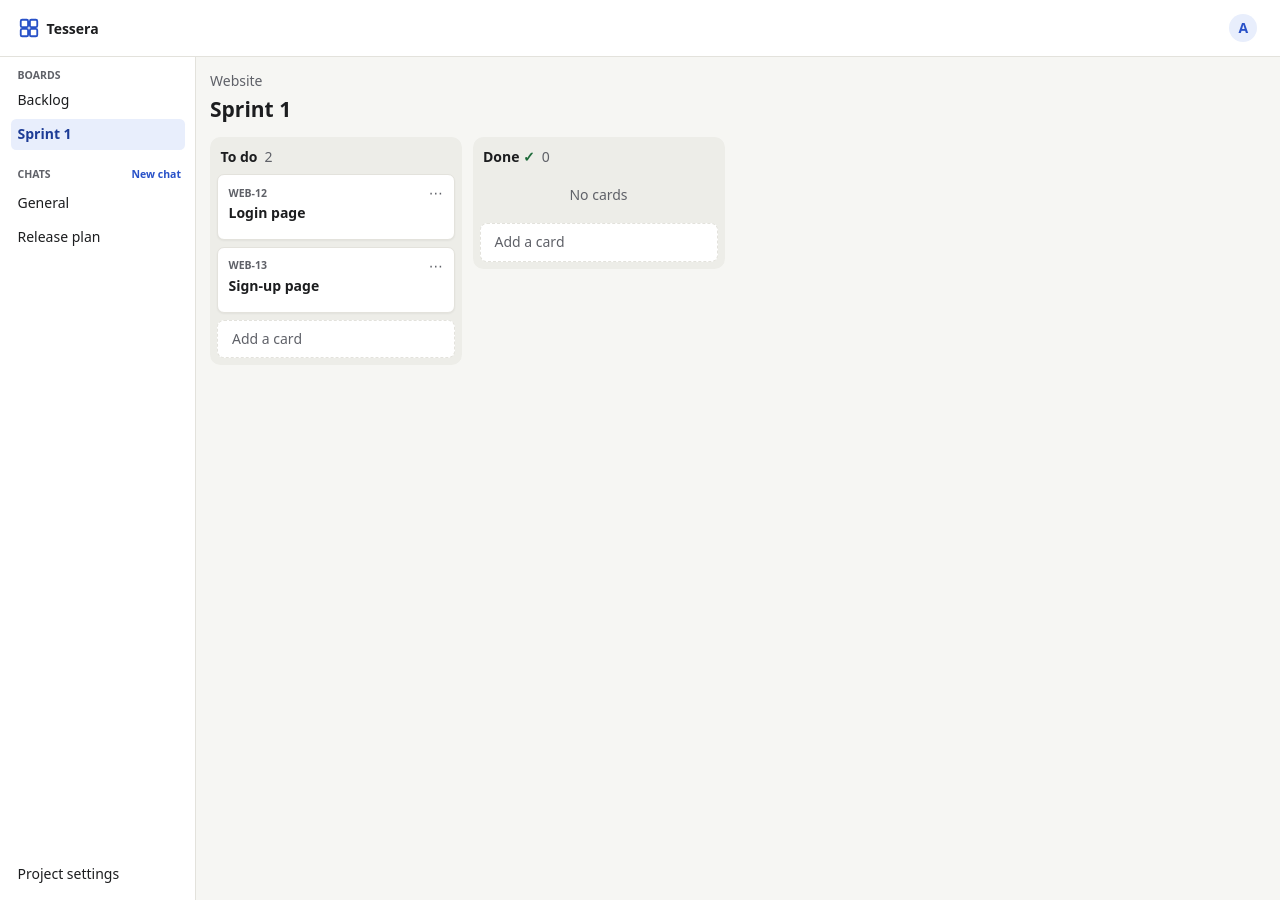
it: Chats and cards › unlinks a chat from its card, keeping both
Click the button "WEB-12 Login page". click: (267,204)
box: [228,186,306,222]
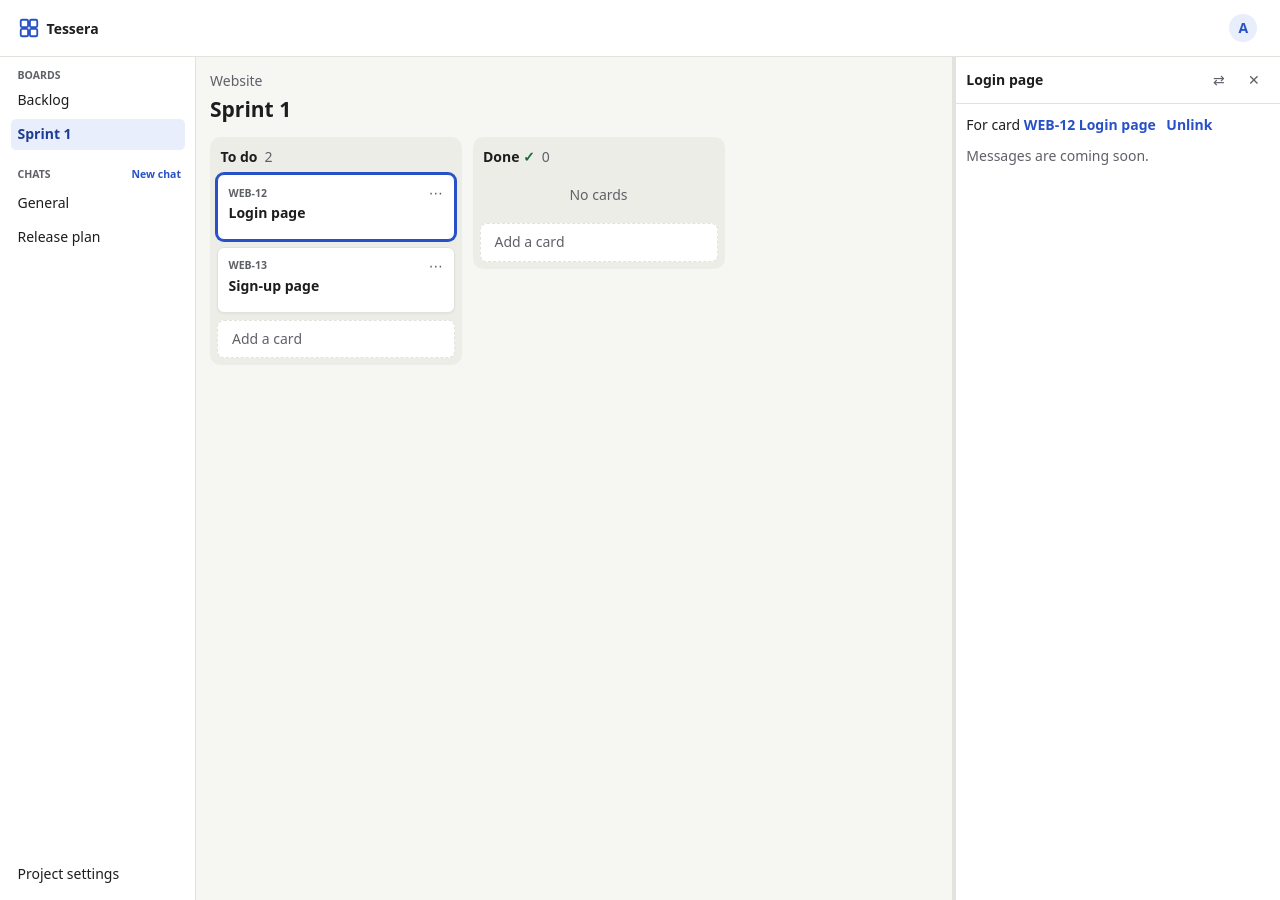
Click the button with aria-label "Unlink from WEB-12". click: (1189,124)
box: [1166,114,1212,135]
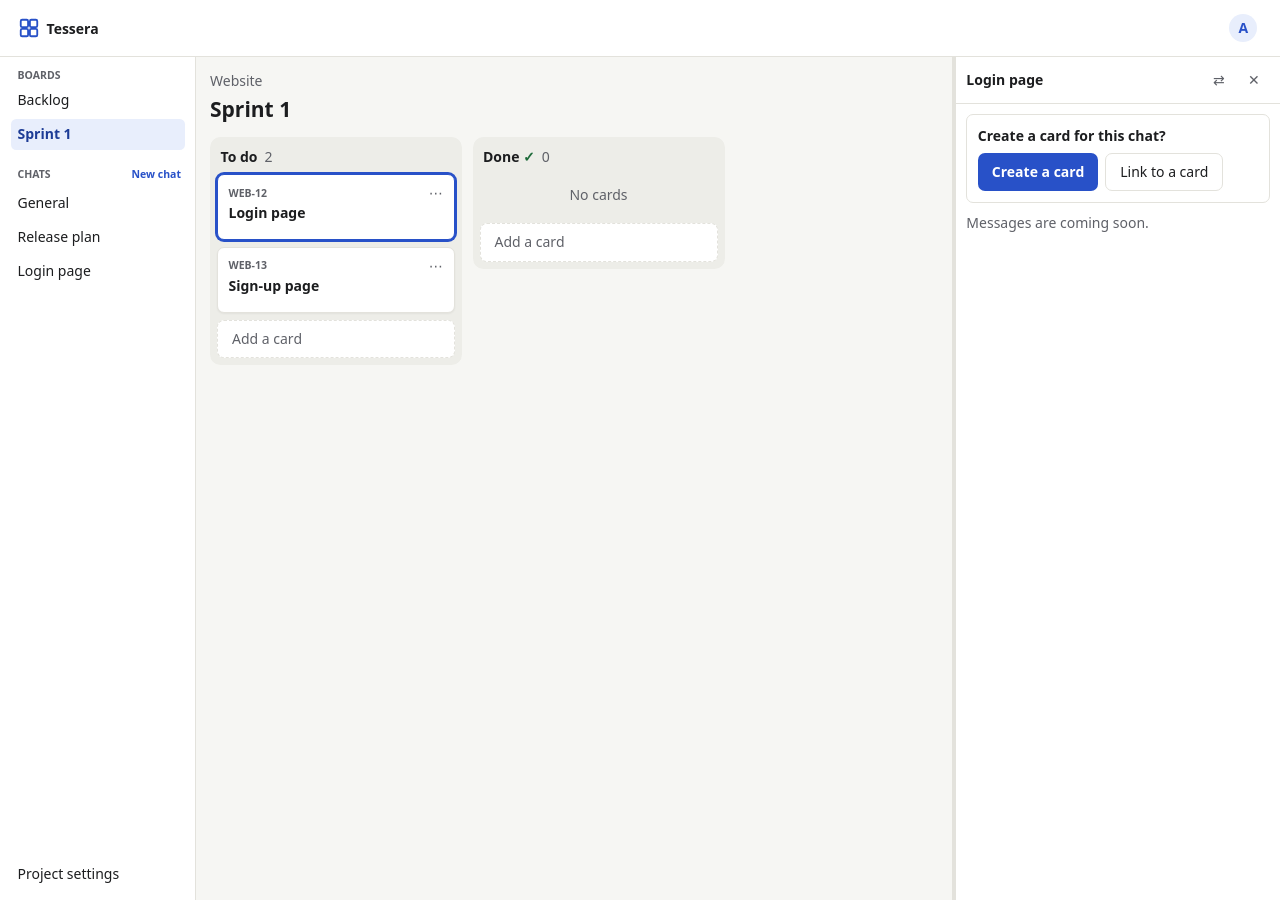
Check: the text "Create a card for this chat?" is shown, box [978,126,1166,144]
